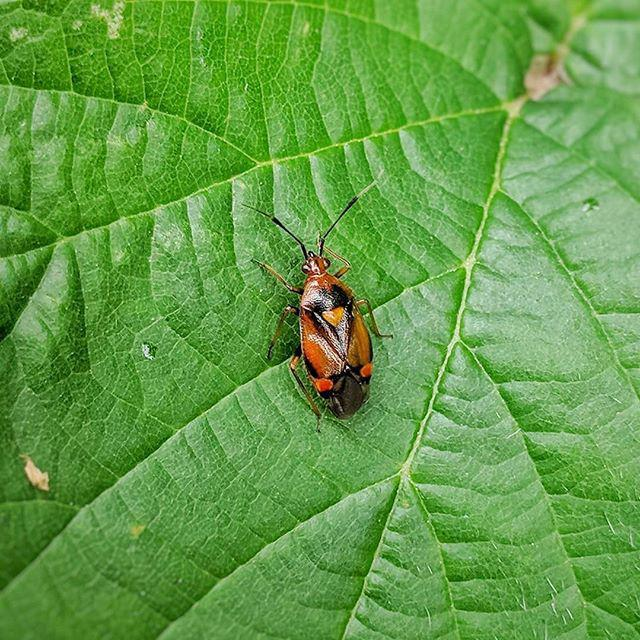Miridae-Adult-: (246, 172, 395, 425)
